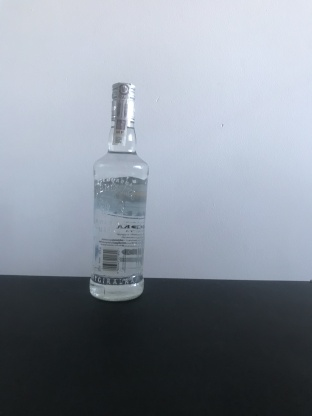nakretka: (109, 78, 137, 125)
